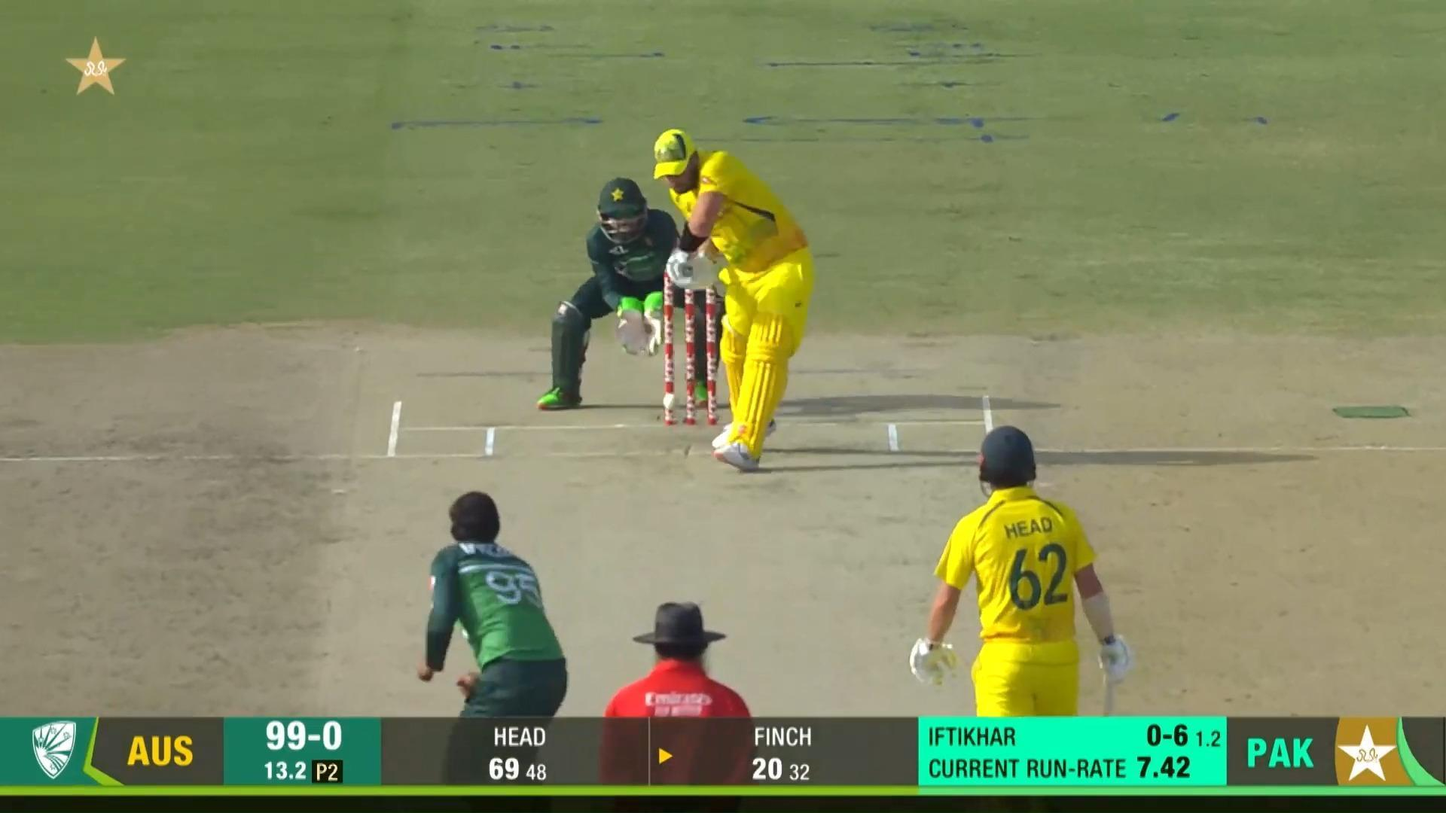BM 1: (651, 126, 814, 472)
BO: (416, 489, 572, 813)
